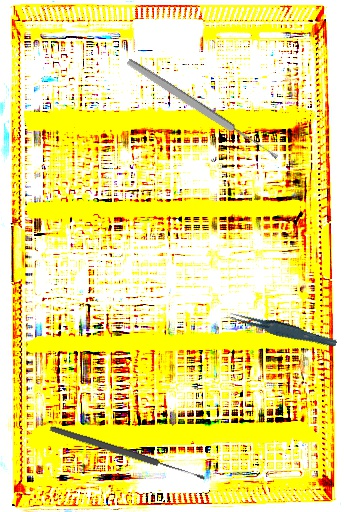Surgical Spoon: (125, 56, 280, 163), (48, 424, 207, 483)
Tissue Forceps: (225, 303, 338, 355)
